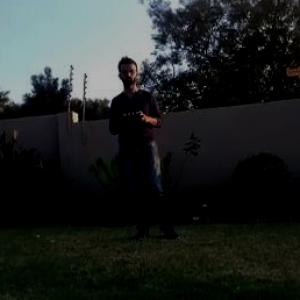follow: (109, 55, 188, 248)
